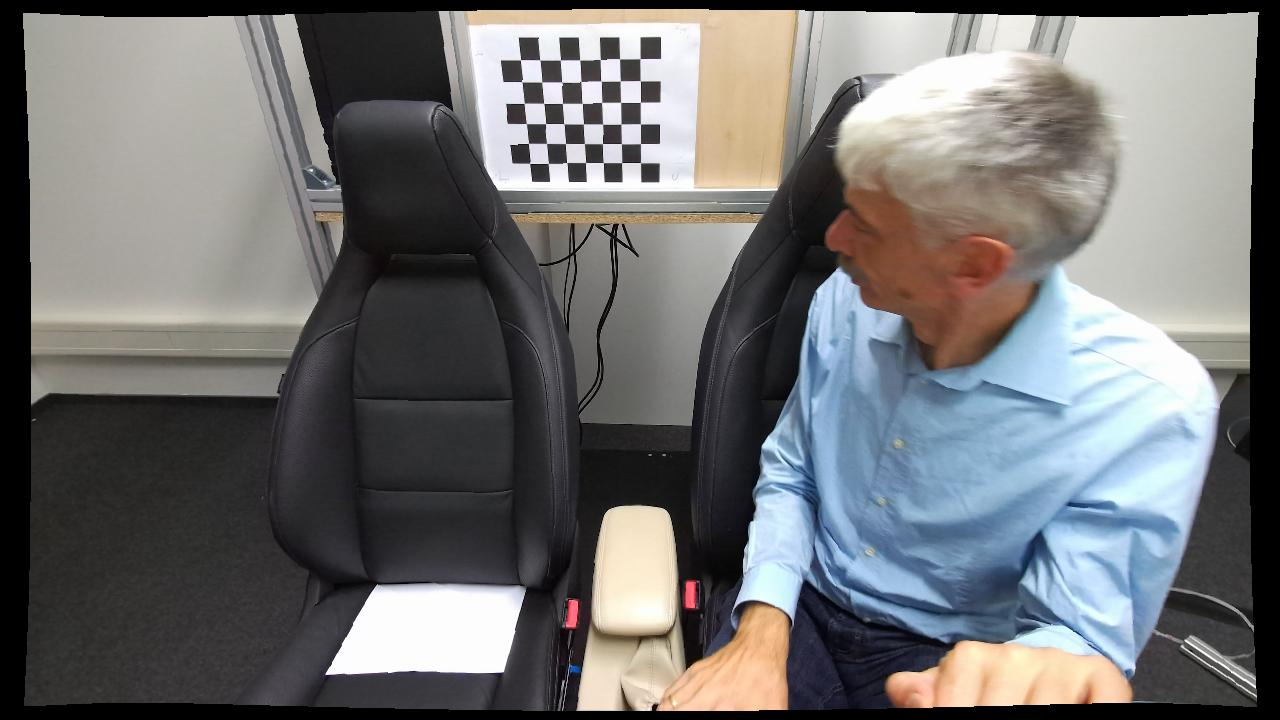Distracted: (699, 47, 1188, 710)
